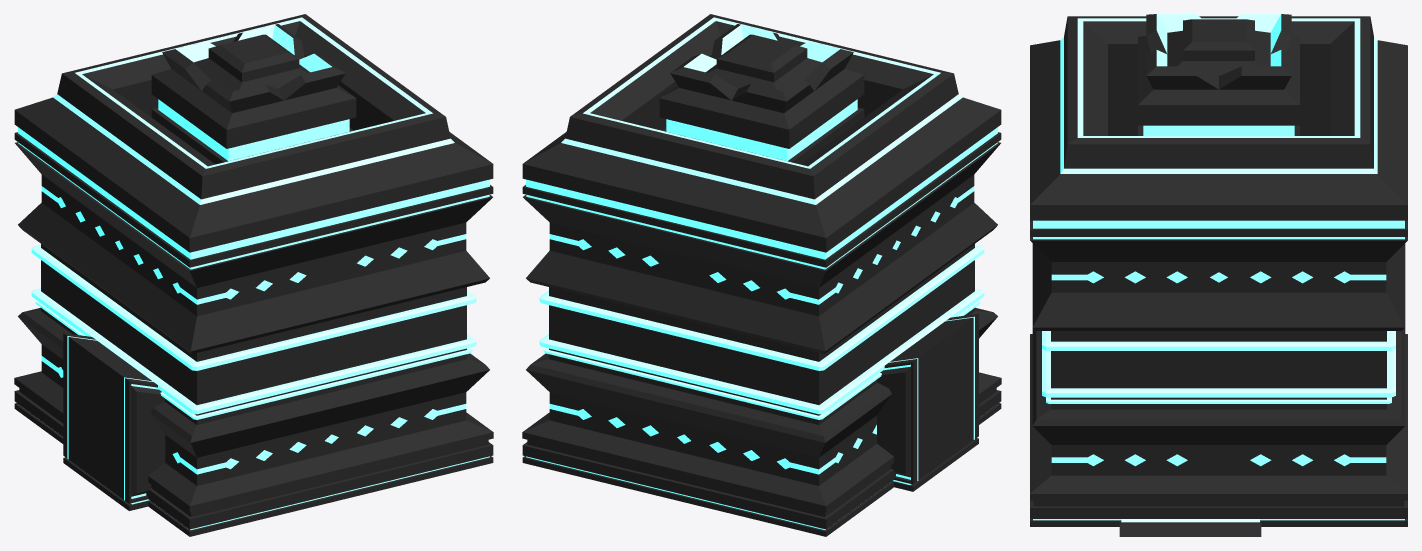
The model's file is Platform.fbx.
The picture shows the model from 3 angles, left to right: view 1: azimuth 30°, elevation 25°; view 2: azimuth 150°, elevation 25°; view 3: azimuth 270°, elevation 25°; orthographic projection. The views are drawn at different scales.
Visible parts, largest first — view 1: 3x3 Pillar, Cube.002; view 2: 3x3 Pillar, Cube.002; view 3: 3x3 Pillar, Cube.002.
Part boxes in pixels (x1=…): 3x3 Pillar: x1=14, y1=14, x2=493, y2=536; Cube.002: x1=63, y1=333, x2=165, y2=510; 3x3 Pillar: x1=522, y1=14, x2=1001, y2=536; Cube.002: x1=877, y1=313, x2=978, y2=491; 3x3 Pillar: x1=1030, y1=14, x2=1407, y2=526; Cube.002: x1=1119, y1=519, x2=1261, y2=536.
Size of what is drawn, in the model's own units: 1800 by 1600 by 2111.
